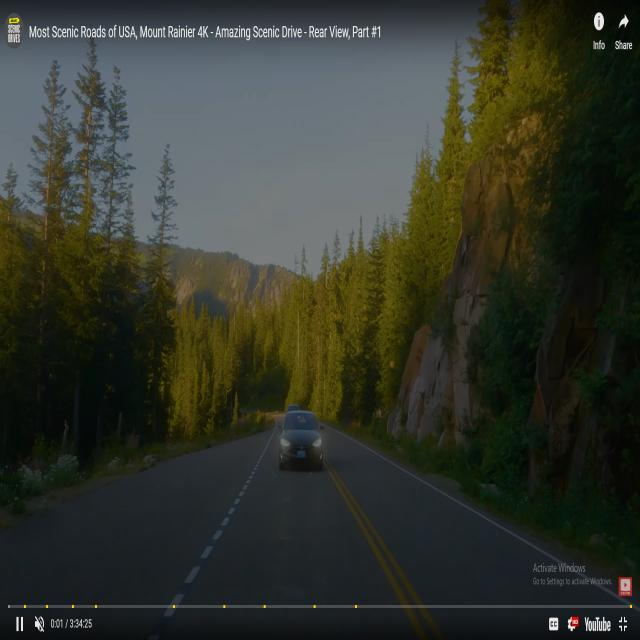headlights: (277, 434, 326, 466)
